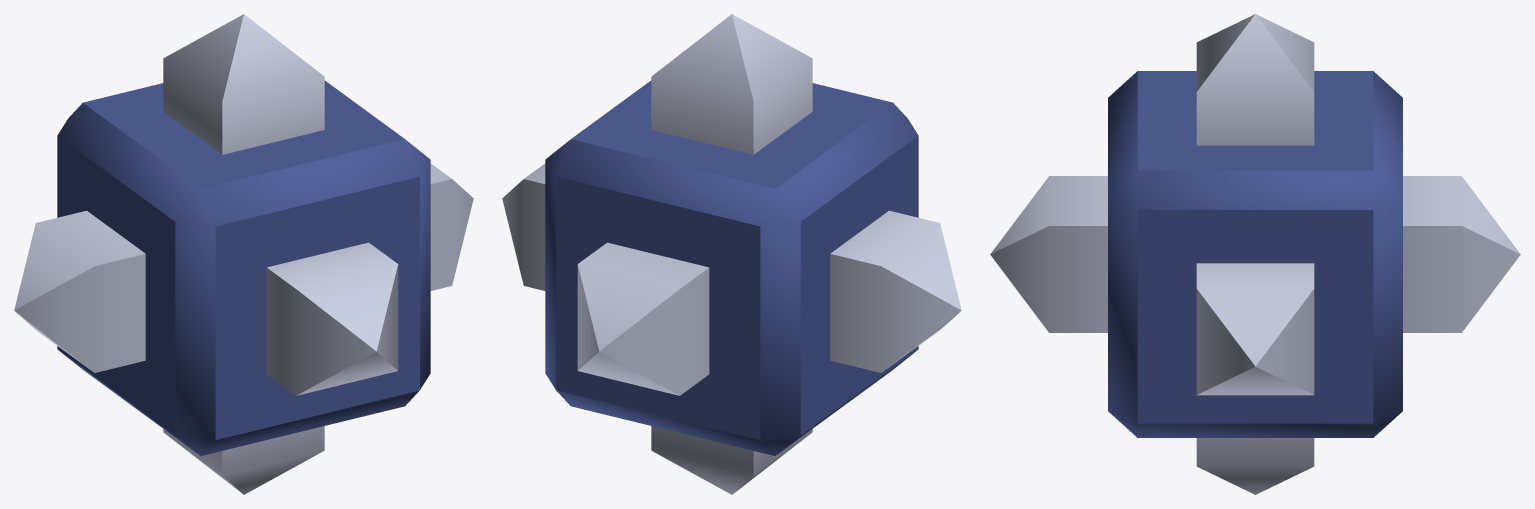
The model's file is spikeBlock.glb.
3 renders of one model, left to right at view 1: azimuth 30°, elevation 25°; view 2: azimuth 150°, elevation 25°; view 3: azimuth 270°, elevation 25°, orthographic.
Visible parts, largest first — view 1: spikeBlock; view 2: spikeBlock; view 3: spikeBlock.
Part boxes in pixels (x1,y1,x2,y2): spikeBlock: (14,14,473,494); spikeBlock: (502,14,961,494); spikeBlock: (990,14,1520,494).
Bounding box in the file's own units: 0.9 × 0.9 × 0.9.
